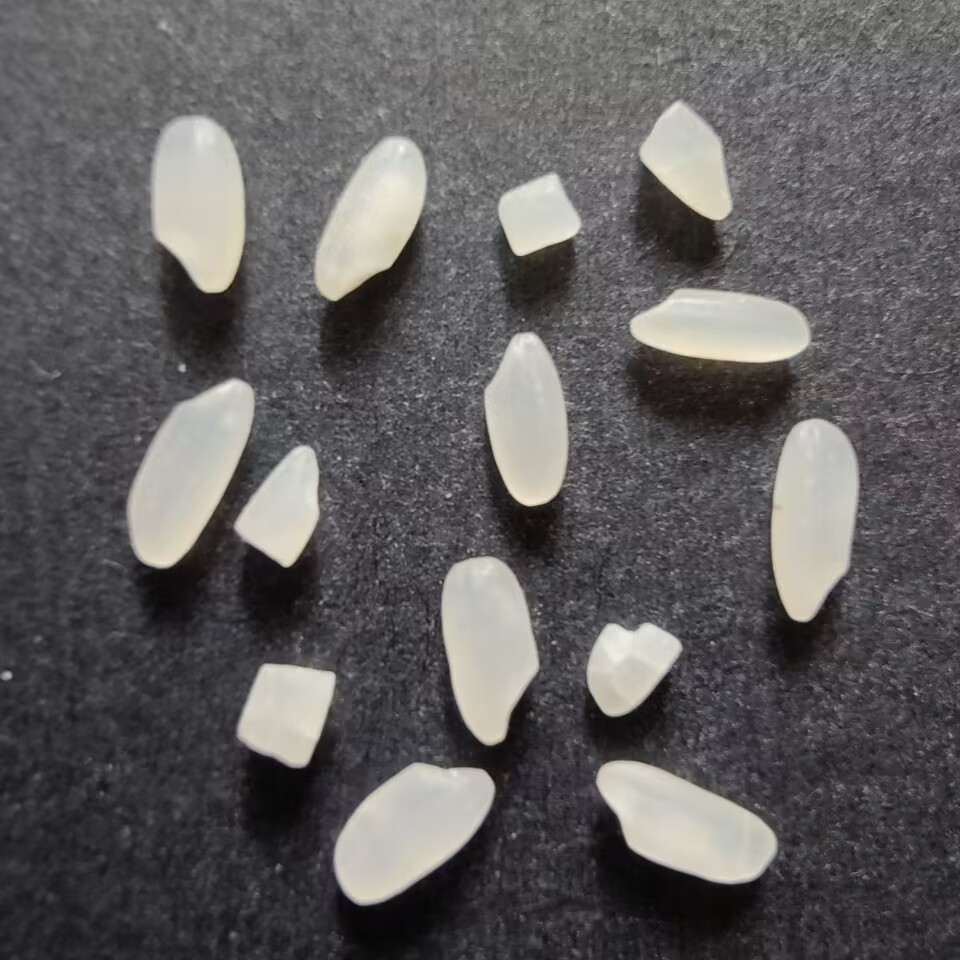broken: (229, 659, 343, 770), (634, 99, 733, 226), (231, 441, 327, 571), (581, 616, 685, 724), (494, 169, 582, 260)
rice: (122, 375, 254, 576), (329, 757, 497, 912), (594, 755, 778, 888), (308, 132, 428, 306), (438, 554, 542, 751), (766, 414, 861, 625), (149, 112, 249, 297), (481, 328, 573, 510), (622, 285, 814, 366)
